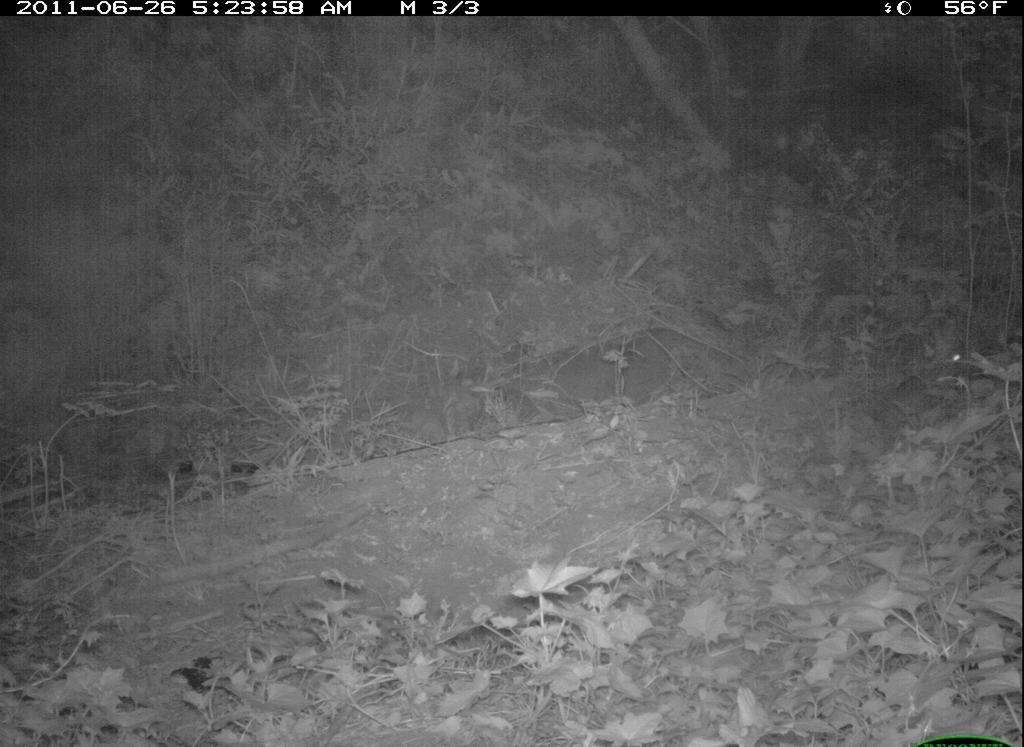rabbit: (885, 316, 983, 427)
